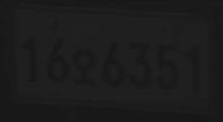1: (181, 46, 203, 91), (18, 38, 40, 80)
3: (127, 41, 149, 90)
5: (155, 44, 178, 90)
6: (46, 37, 70, 82), (102, 40, 124, 88)
오: (73, 46, 96, 86)
